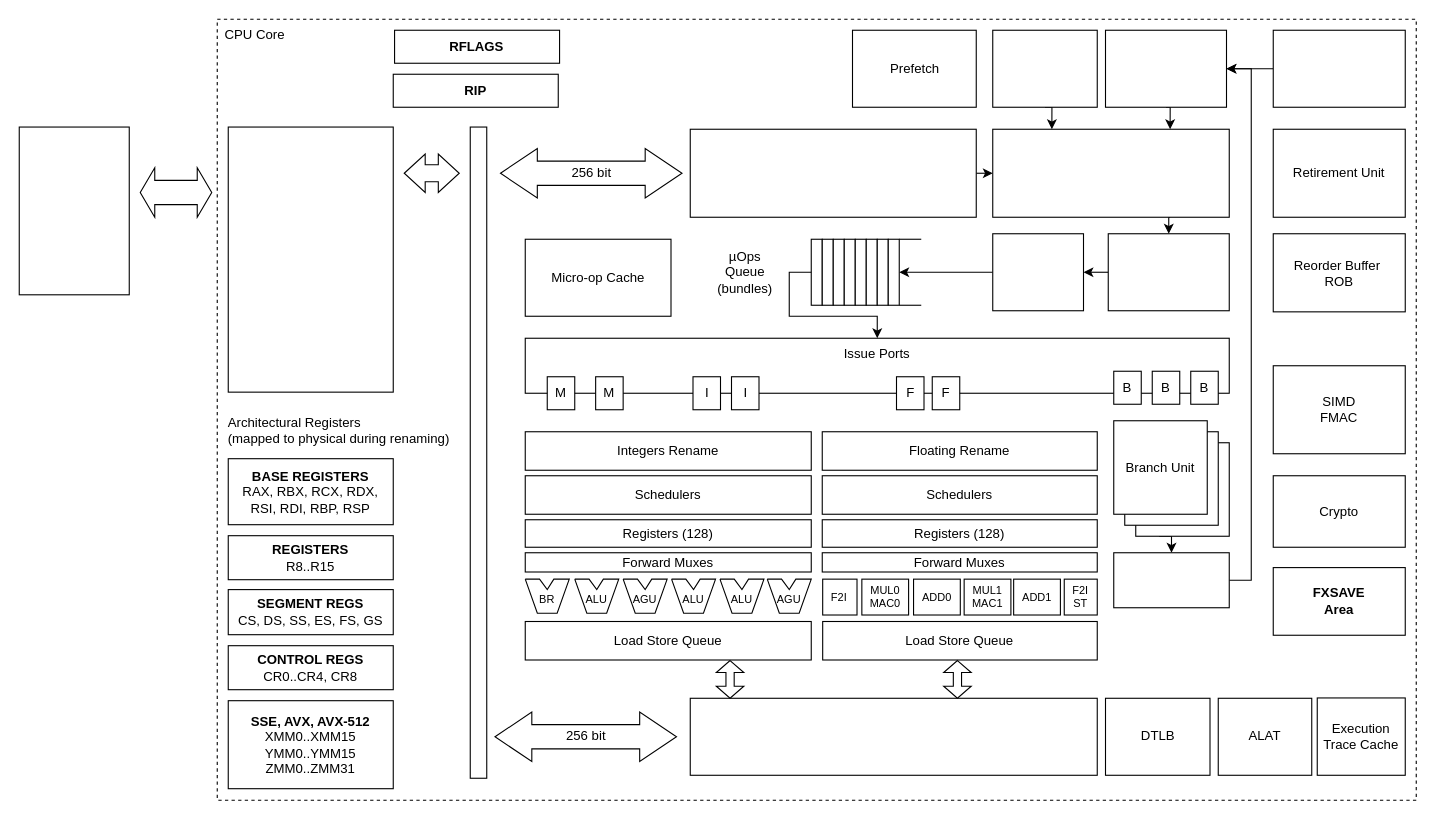
The diagram is 1436 pixels wide and 820 high, and some of its shapes have lost their labels. The centre of each missing label's shape, as x and y in pixels:
64-bit: point 175,192
Branch & Predicate Registers: point 1171,580
Branch Predictor: point 1165,68
Cache d'instruction L1: point 832,172
Cache de données L1: point 893,736
Cache L2: point 310,259
Cache L3: point 73,210
Decode and Control: point 1168,272
Fetch Unit: point 1110,172
ITLB: point 1044,68
Op-cache: point 1338,68
Registers Rename: point 1038,272
